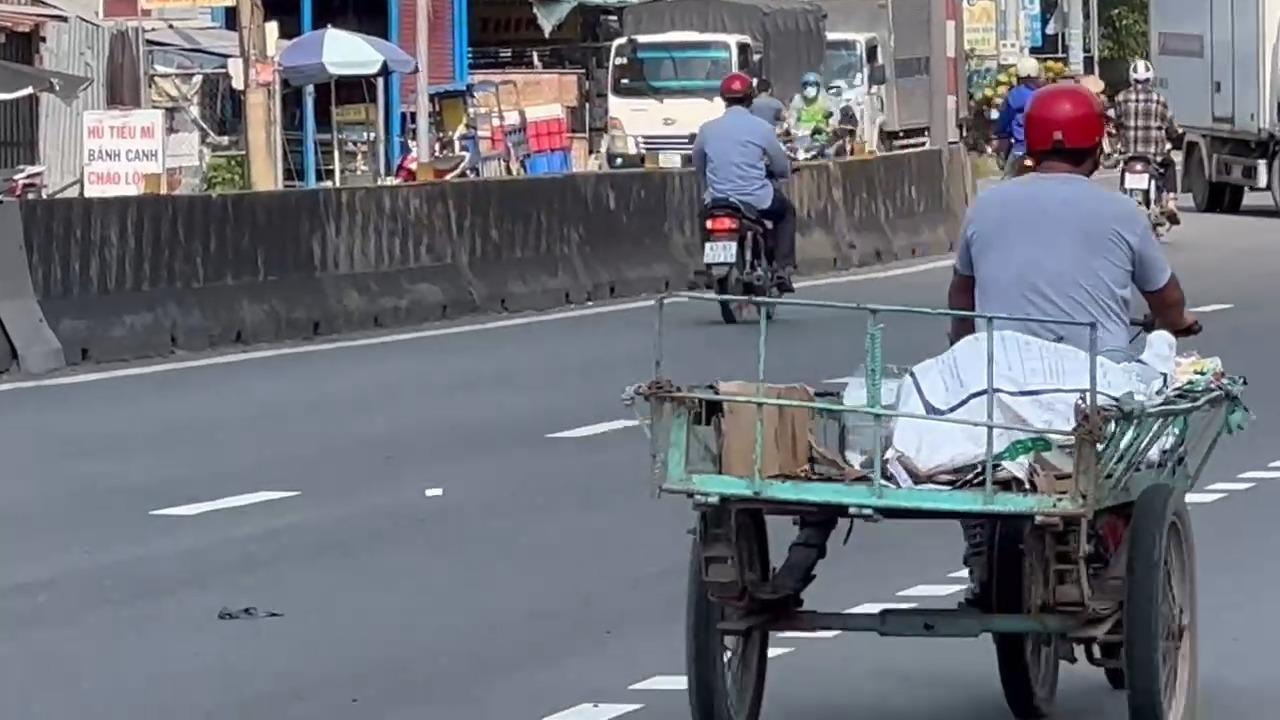bien_so: (702, 239, 737, 264)
